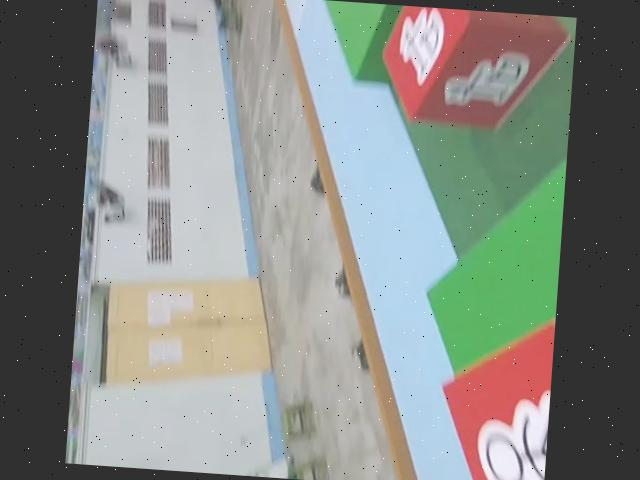R2 Real: (372, 4, 570, 137), (426, 302, 556, 480)
